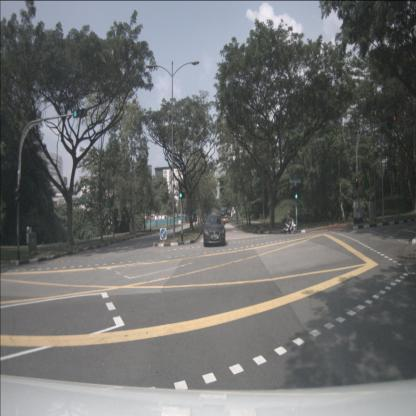human-pedestrian-adult: (260, 210, 262, 224)
vehicle-bus-rigid: (221, 207, 228, 223)
vehicle-car: (203, 215, 226, 246)
vehicle-motorcycle: (283, 210, 297, 235)
